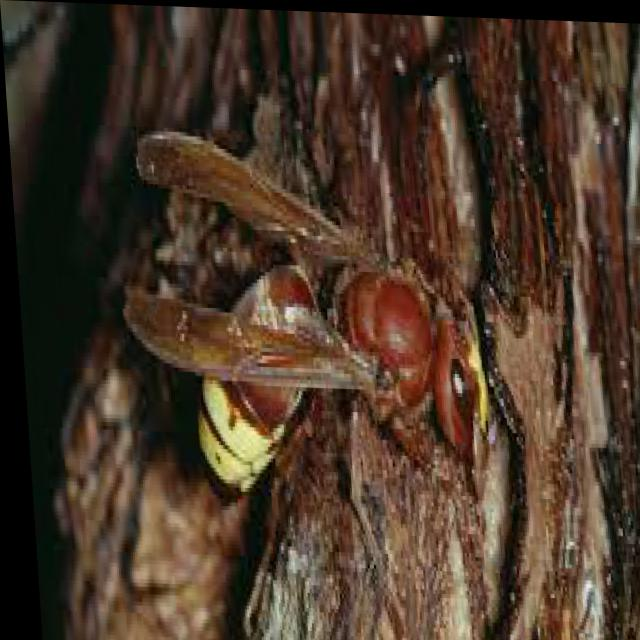Vespa Orientalis: (101, 109, 503, 565)
